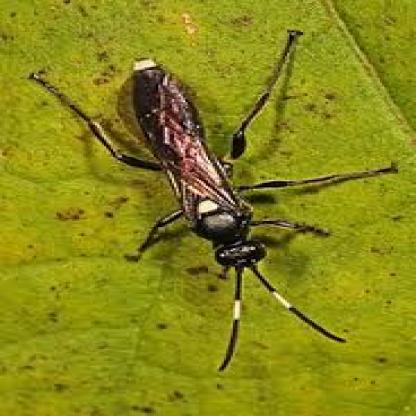sawfly: (26, 28, 404, 372)
